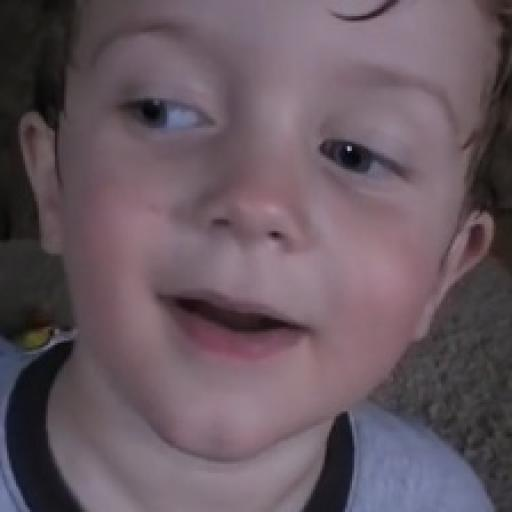Autism: (37, 29, 512, 447)
